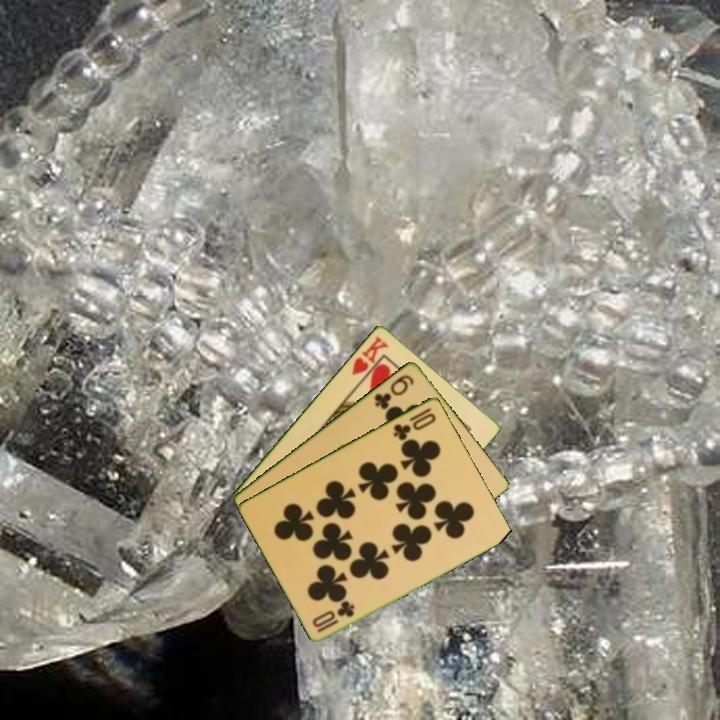10c: (390, 404, 439, 443), (309, 598, 358, 635)
6c: (370, 371, 417, 412)
Kh: (348, 332, 391, 385)
